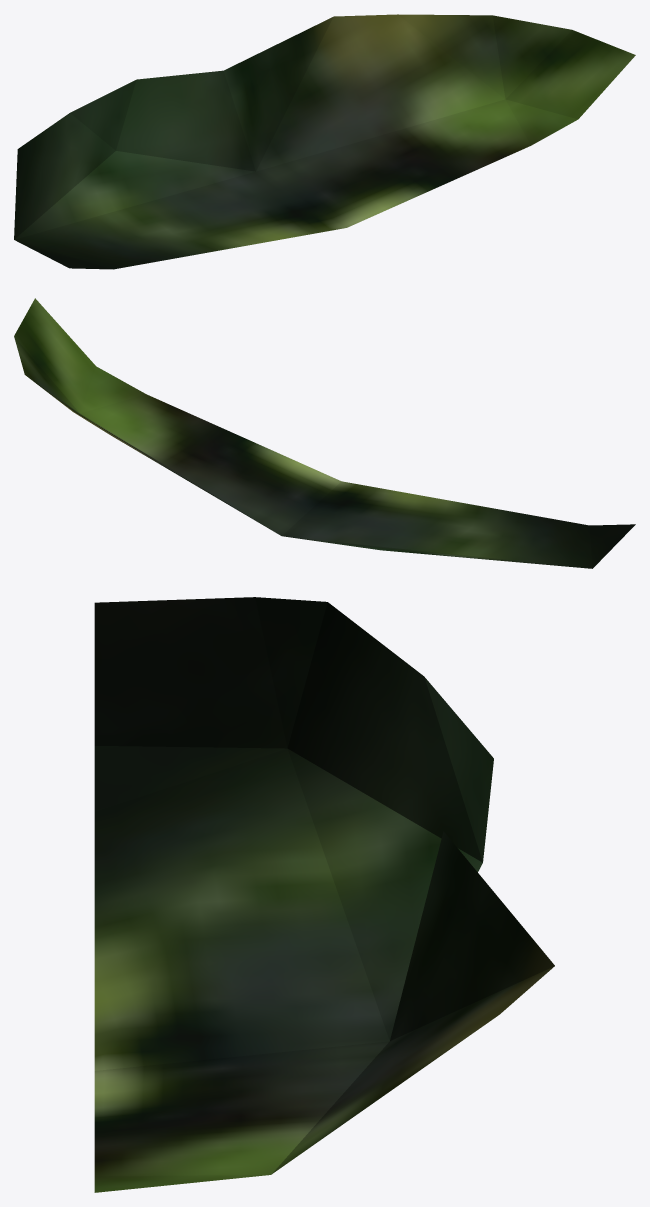
The picture shows the model from 3 angles, top to bottom: view 1: azimuth 30°, elevation 25°; view 2: azimuth 150°, elevation 25°; view 3: azimuth 270°, elevation 25°; orthographic projection. The views are drawn at different scales.
Bounding box in the file's own units: 0.1971 × 0.0336 × 0.0685.
Materials: 1 (1 with a texture image).
